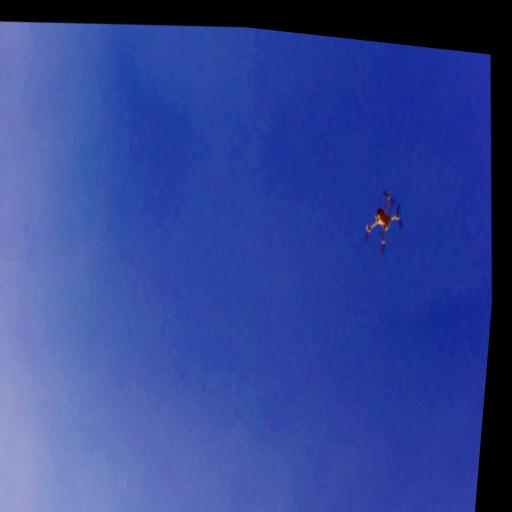drones: (358, 181, 411, 263)
